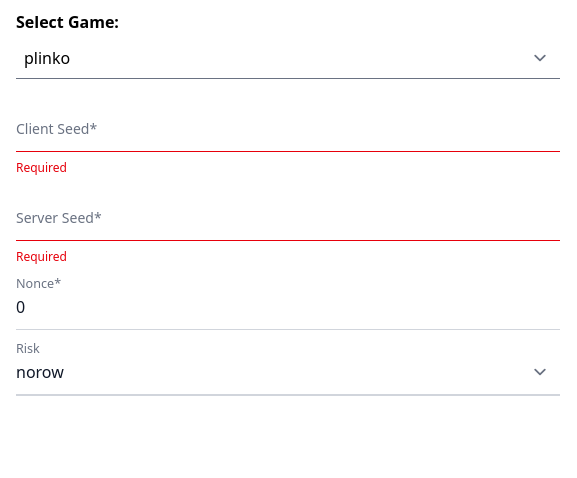
VerifierForm Component › field presence check › presence check not met when entering form
Expected: the field labelled "Rows*" is not shown
// set risk to low
Select "low" in the dropdown labelled "Risk": x=288, y=373 left=16, top=350, right=560, bottom=396
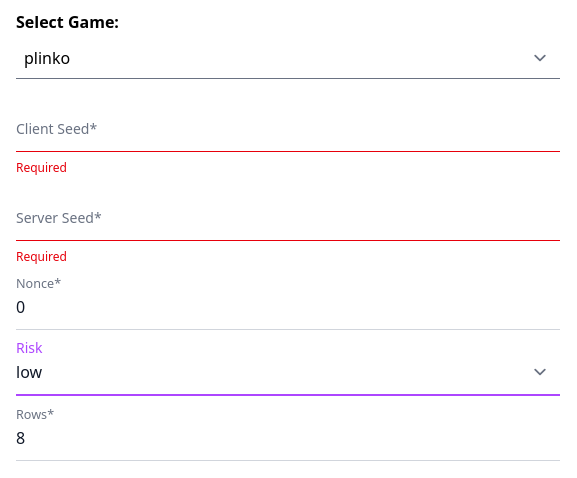
Expected: the number field labelled "Rows*" holds "8", left=16, top=416, right=560, bottom=461
